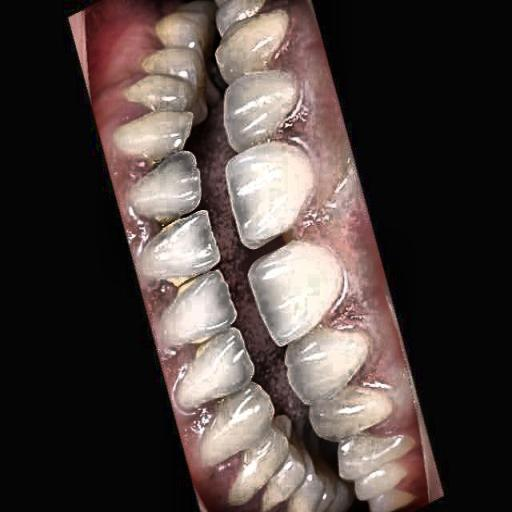Healthy: (127, 21, 378, 489)
